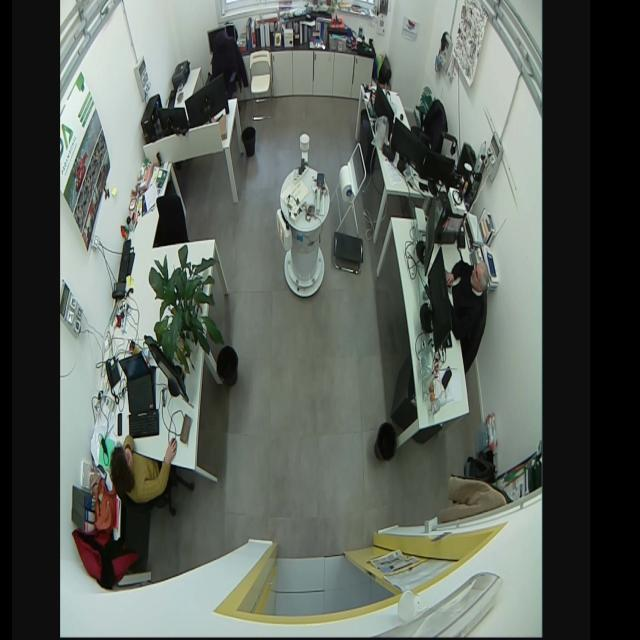Persona: (108, 428, 178, 508), (444, 254, 490, 344)
